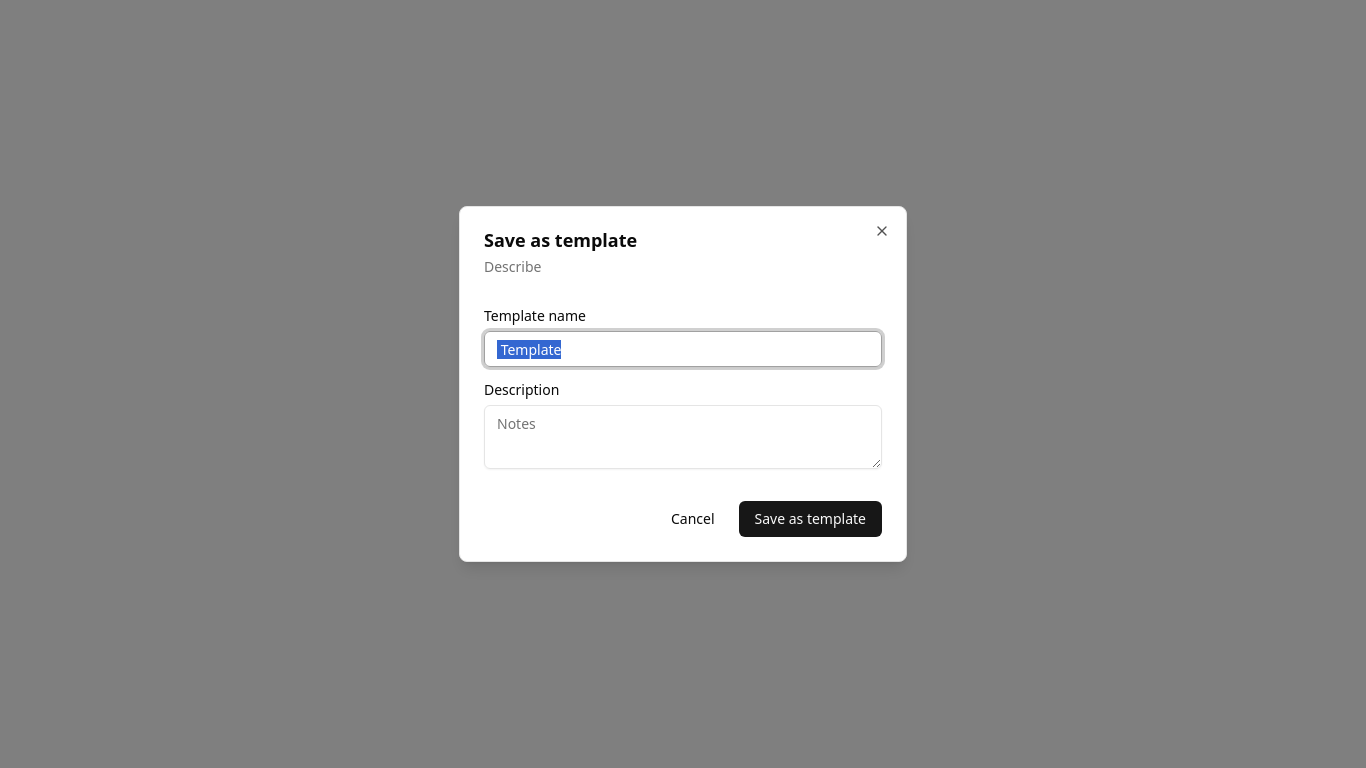
Test: SaveAsTemplateDialog › requires a non-empty name
Clear the field labelled "Template name" at (683, 349), box 484,331 -> 882,367
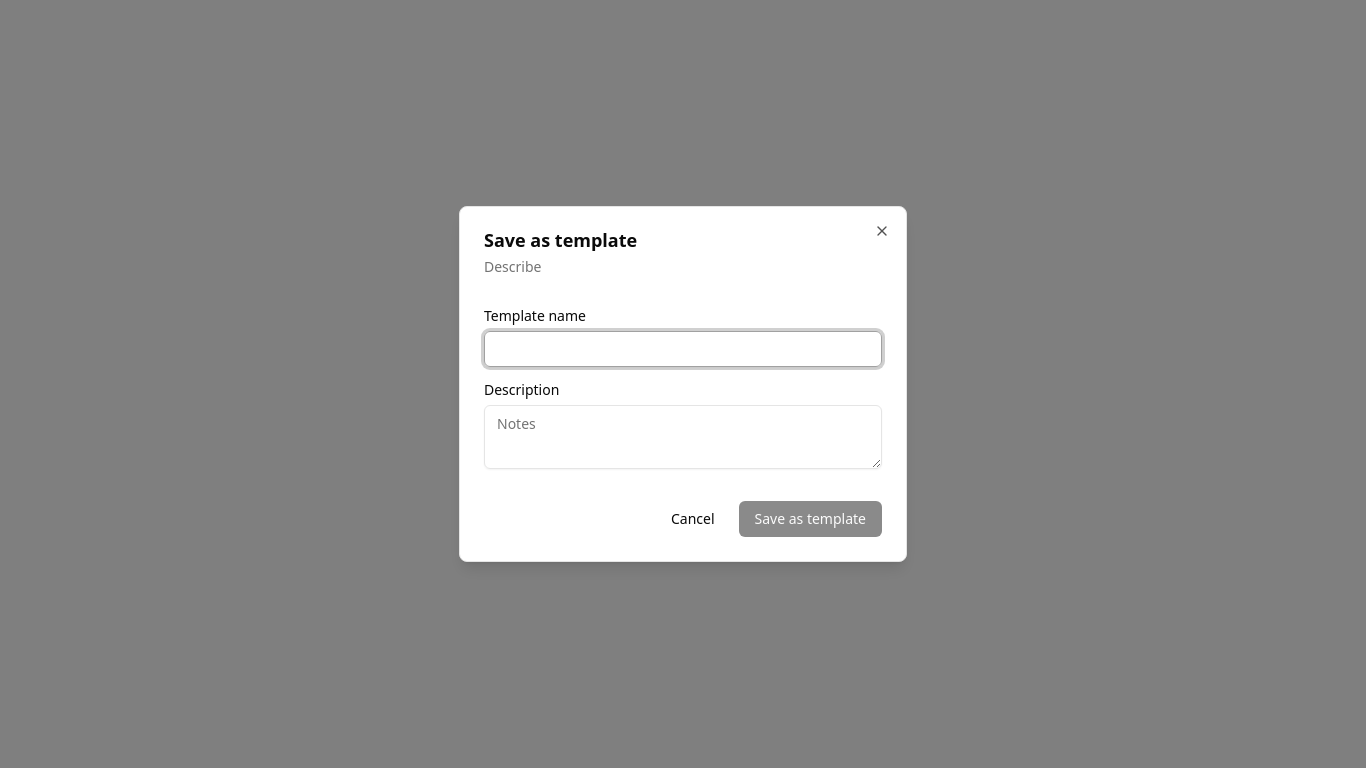
Check: the button "Save as template" is disabled, box 738,501 -> 882,537
